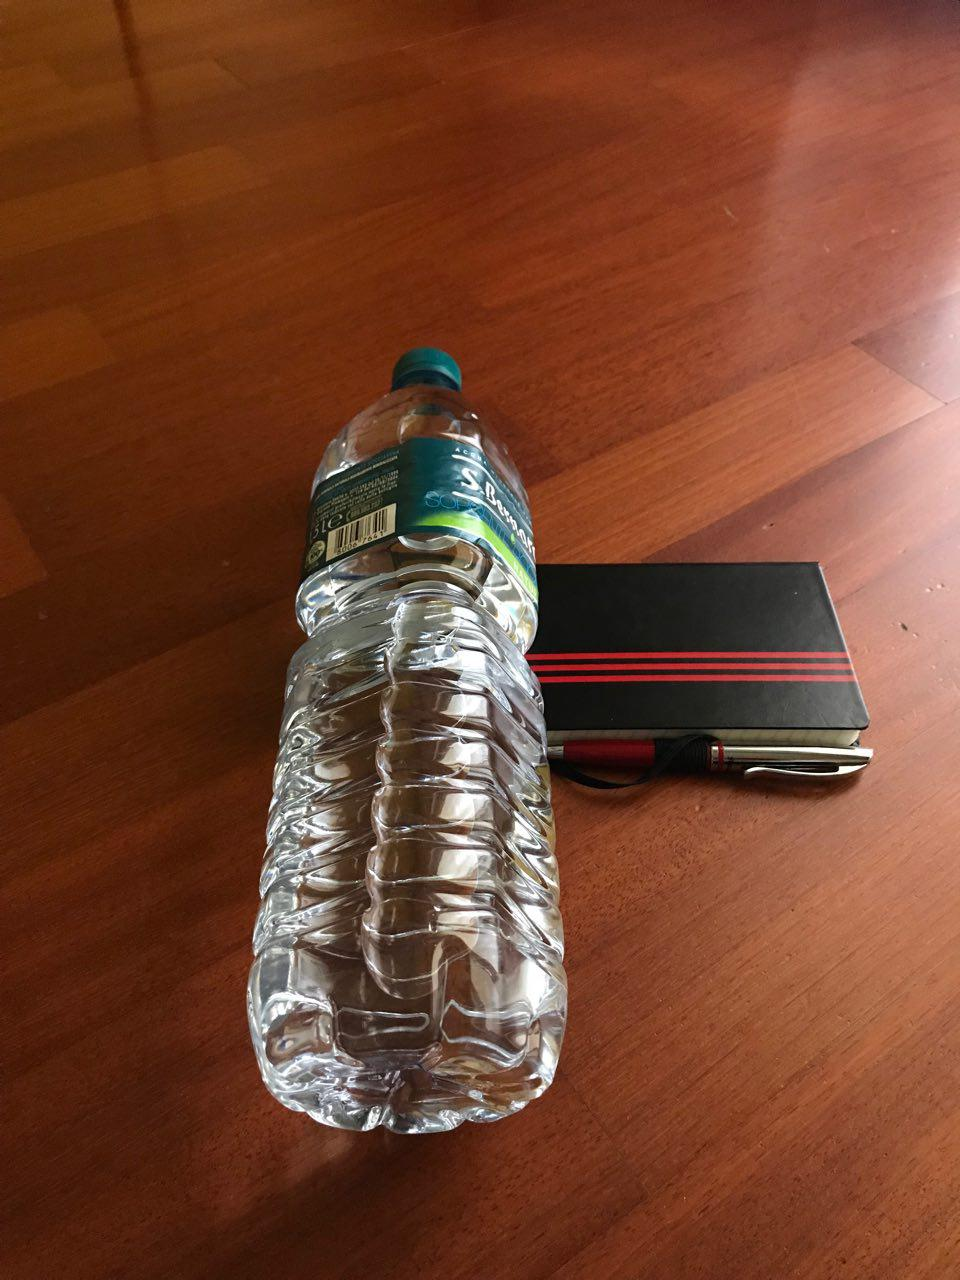san_bernardo: (241, 344, 571, 1136)
